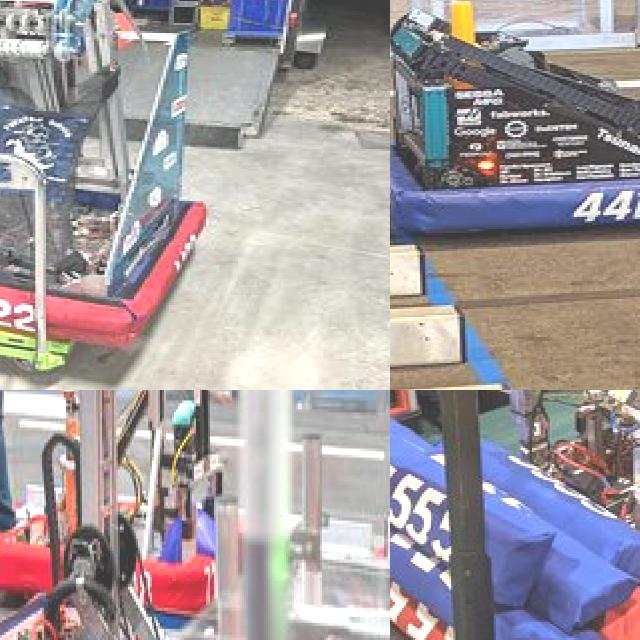FRC-Robots: (0, 0, 236, 378), (0, 390, 279, 640), (390, 0, 640, 276), (522, 390, 640, 599)
